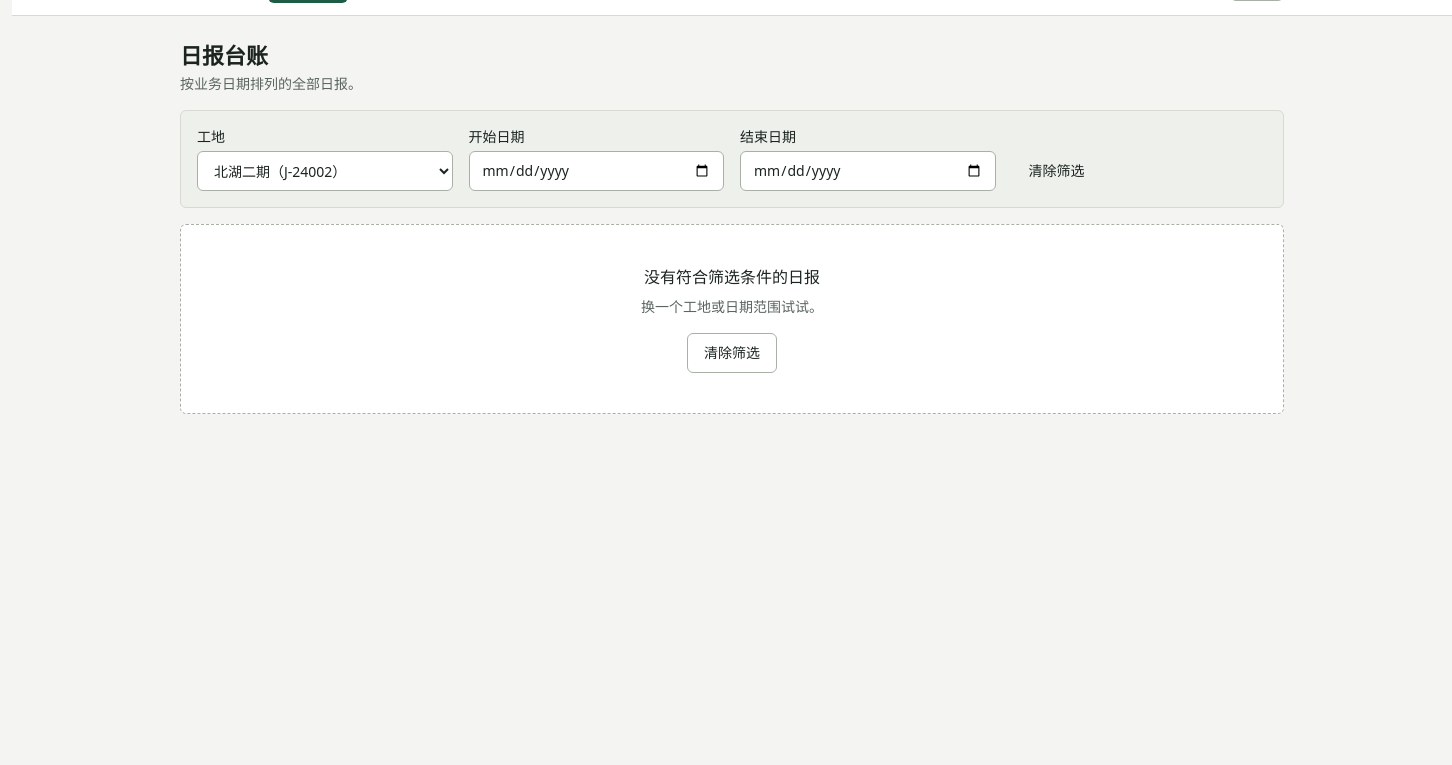
Test: ReportsPage › shows a filtered empty state that clears the filter
Expected: the text "没有符合筛选条件的日报" is shown, x1=644 y1=265 x2=820 y2=289
Step 1. Click the button "清除筛选" below "换一个工地或日期范围试试。" → (732, 353), box x1=687 y1=333 x2=777 y2=373
(page scrolled)
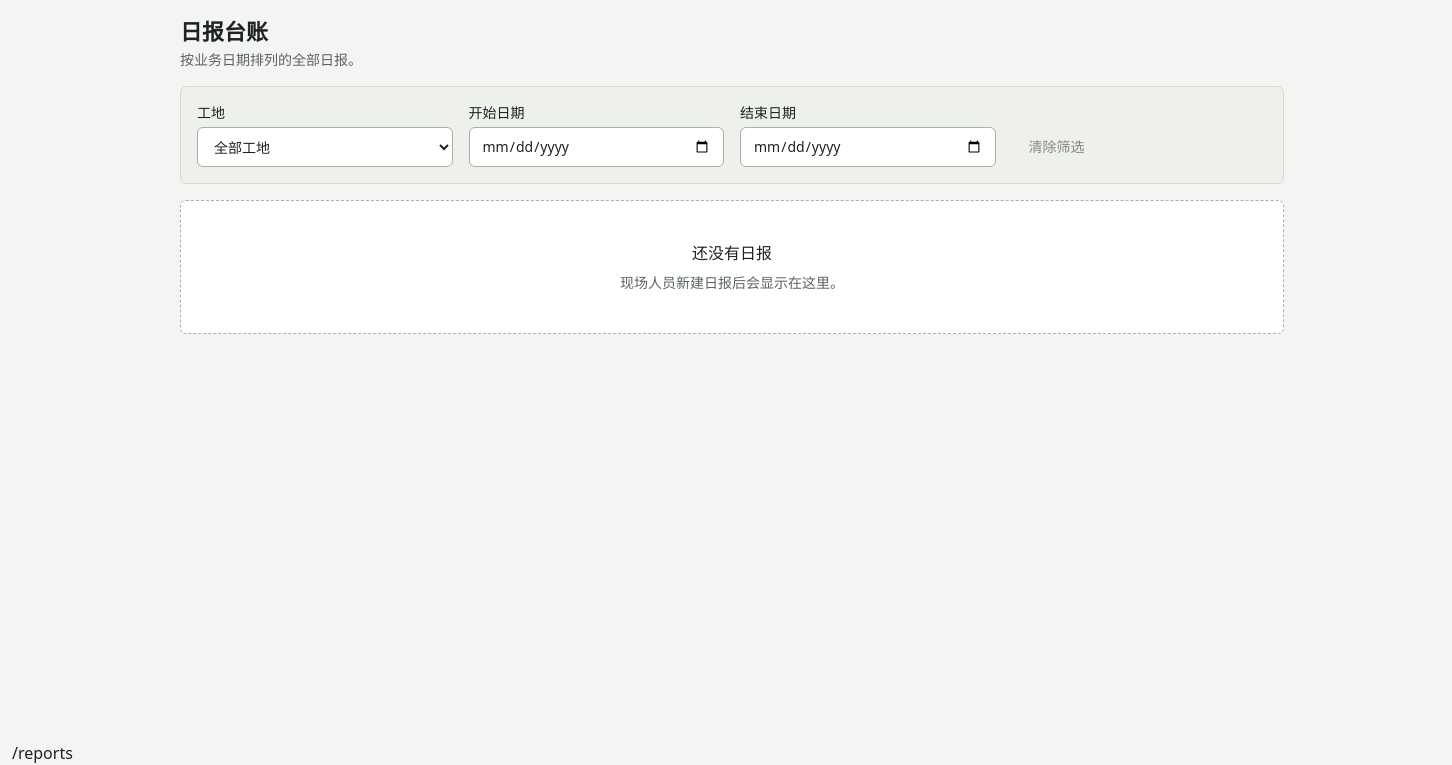
Expected: the text with test id "location" reads "/reports", x1=12 y1=742 x2=73 y2=764
